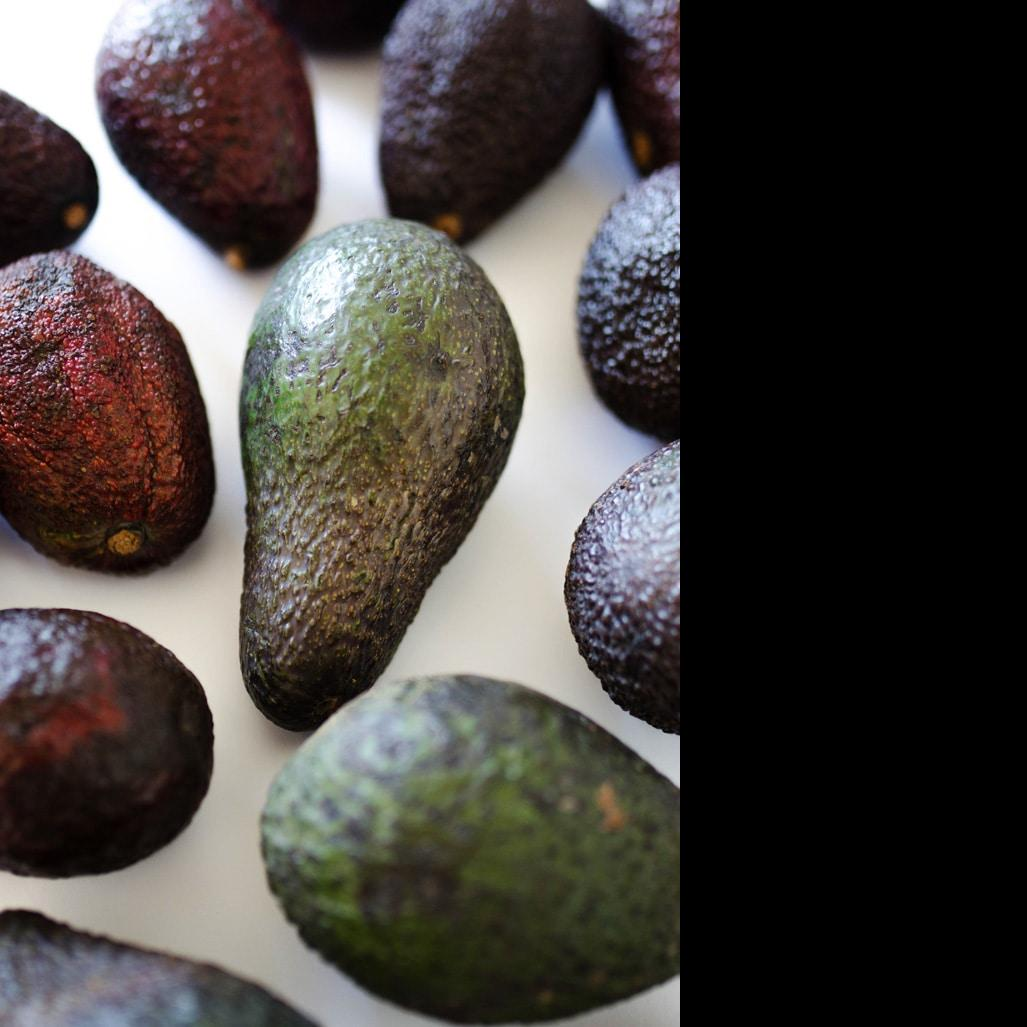almost: (240, 217, 524, 735)
ripe: (1, 249, 216, 579), (95, 1, 321, 274), (2, 609, 215, 880), (377, 3, 600, 251), (563, 436, 680, 734), (575, 163, 683, 446)
unripe: (260, 675, 679, 1027)
